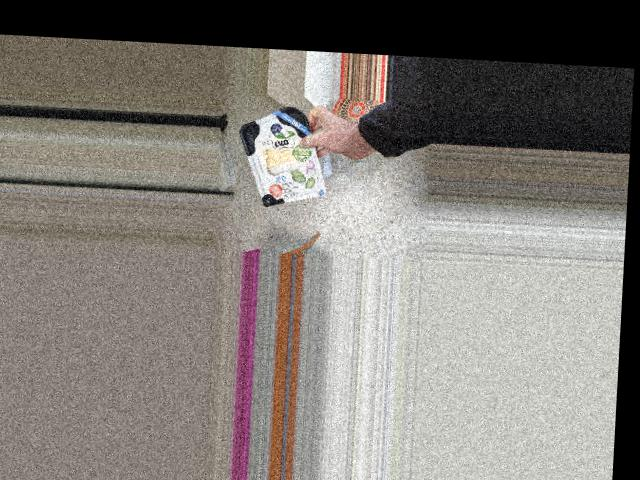cheese: (249, 108, 321, 207)
